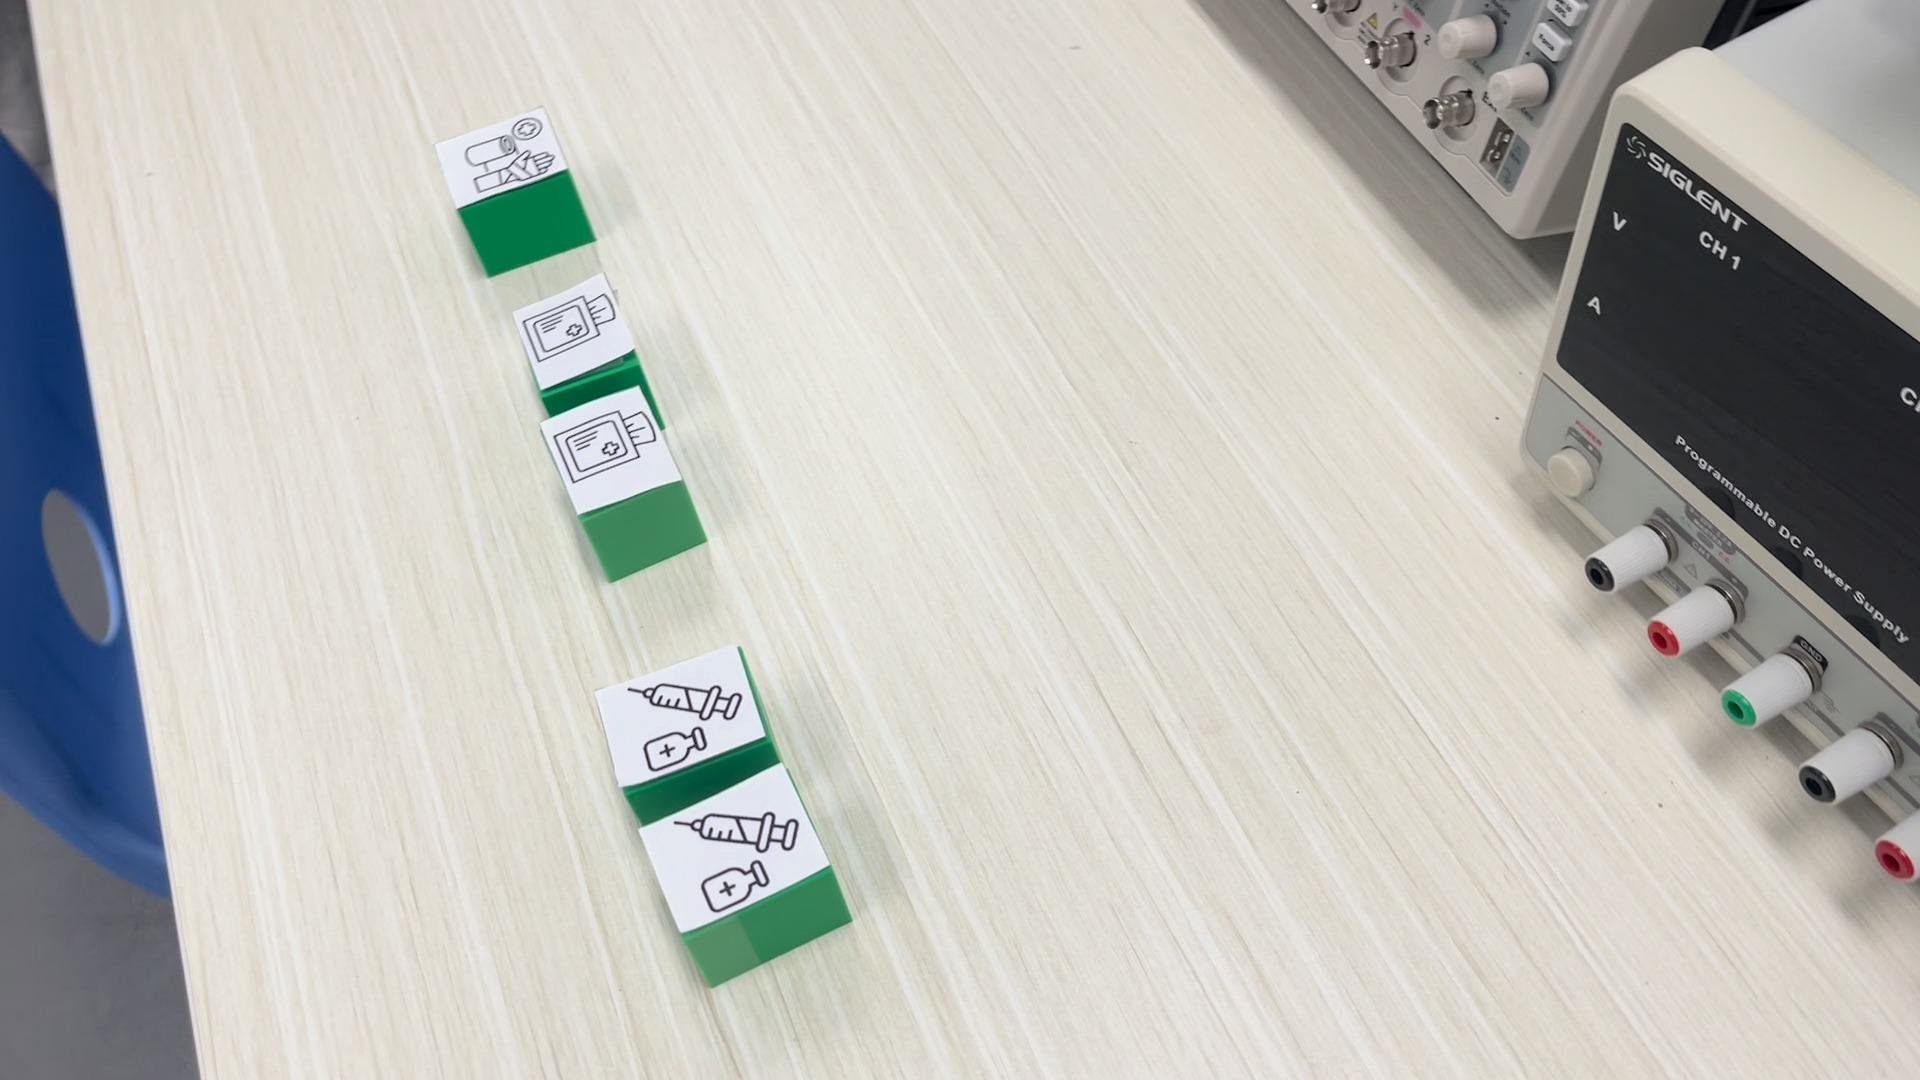Bandages: (431, 104, 597, 276)
Gauze: (543, 385, 708, 584), (512, 273, 641, 402)
antiseptic cream: (640, 764, 852, 990), (589, 642, 781, 795)
